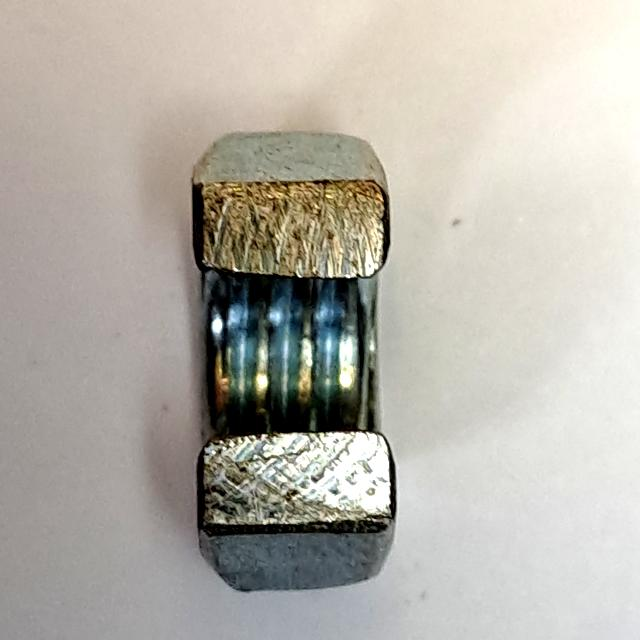Side-Fracture: (177, 117, 413, 610)
